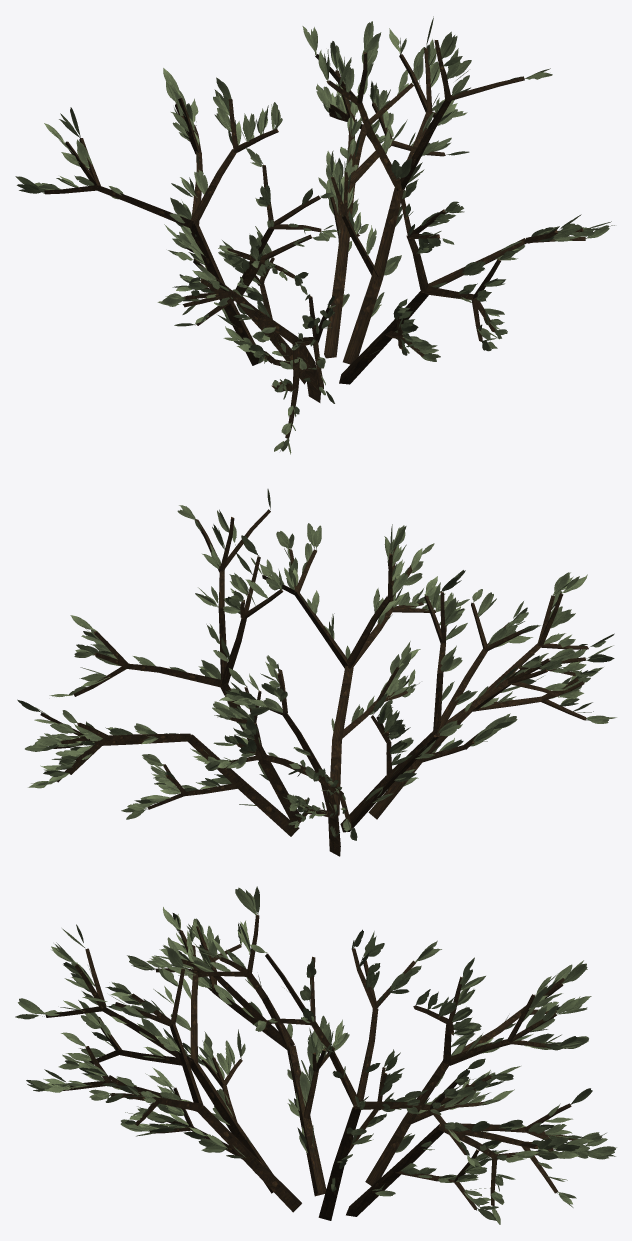
The model's file is heather_dwarf_v02_LOD1.fbx.
3 views of the same model, one above another, from view 1: azimuth 30°, elevation 25°; view 2: azimuth 150°, elevation 25°; view 3: azimuth 270°, elevation 25° (orthographic). The views are drawn at different scales.
Visible parts, largest first — view 1: heather_dwarf_v02_LOD1; view 2: heather_dwarf_v02_LOD1; view 3: heather_dwarf_v02_LOD1.
Part boxes in pixels (x1=…): heather_dwarf_v02_LOD1: x1=15, y1=16, x2=614, y2=454; heather_dwarf_v02_LOD1: x1=17, y1=489, x2=616, y2=856; heather_dwarf_v02_LOD1: x1=15, y1=886, x2=616, y2=1224.
Bounding box in the file's own units: 63.1 × 40.91 × 71.52.
2 materials, 2 textured.
